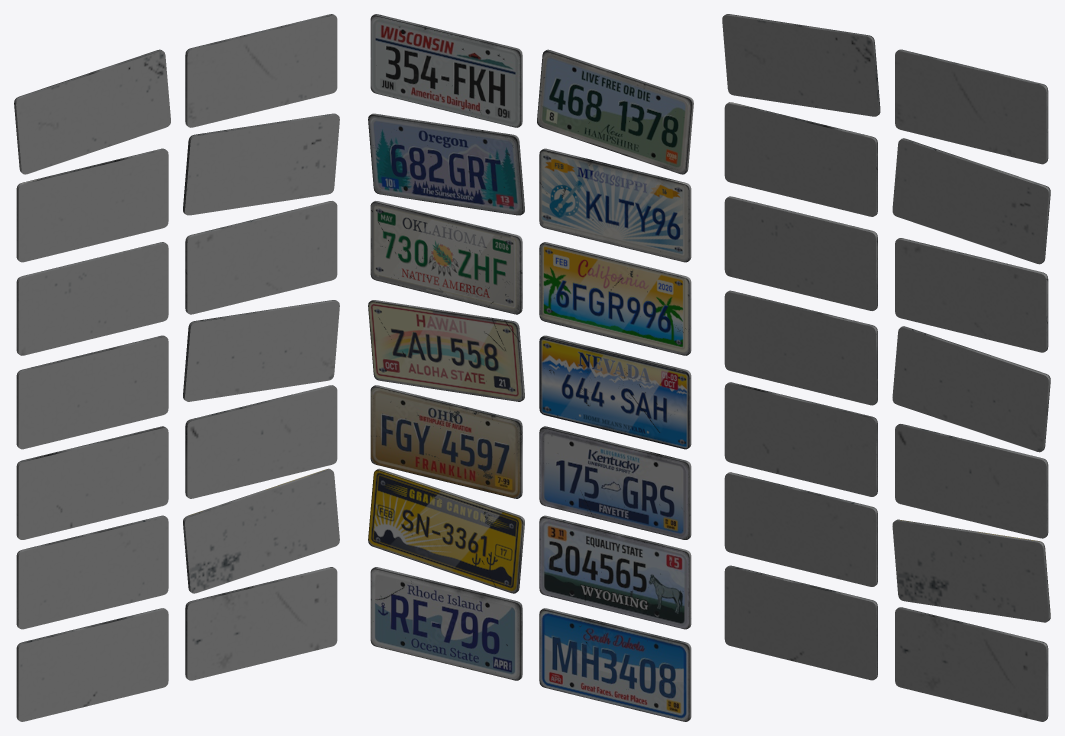
The model's file is Prop_CarPlates_x8.fbx.
3 renders of one model, left to right at view 1: azimuth 30°, elevation 25°; view 2: azimuth 150°, elevation 25°; view 3: azimuth 330°, elevation 25°, orthographic.
Parts seen in each view (by area): view 1: Prop_CarPlates_x8; view 2: Prop_CarPlates_x8; view 3: Prop_CarPlates_x8.
Boxes of the visible parts, <box> form: Prop_CarPlates_x8: <box>14,14,339,721</box>; Prop_CarPlates_x8: <box>368,14,693,721</box>; Prop_CarPlates_x8: <box>722,14,1050,721</box>.
Bounding box in the file's own units: 56.71 × 107 × 0.6109.
